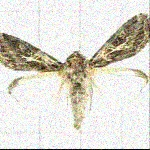Spodoptera litura: (0, 12, 149, 130)
